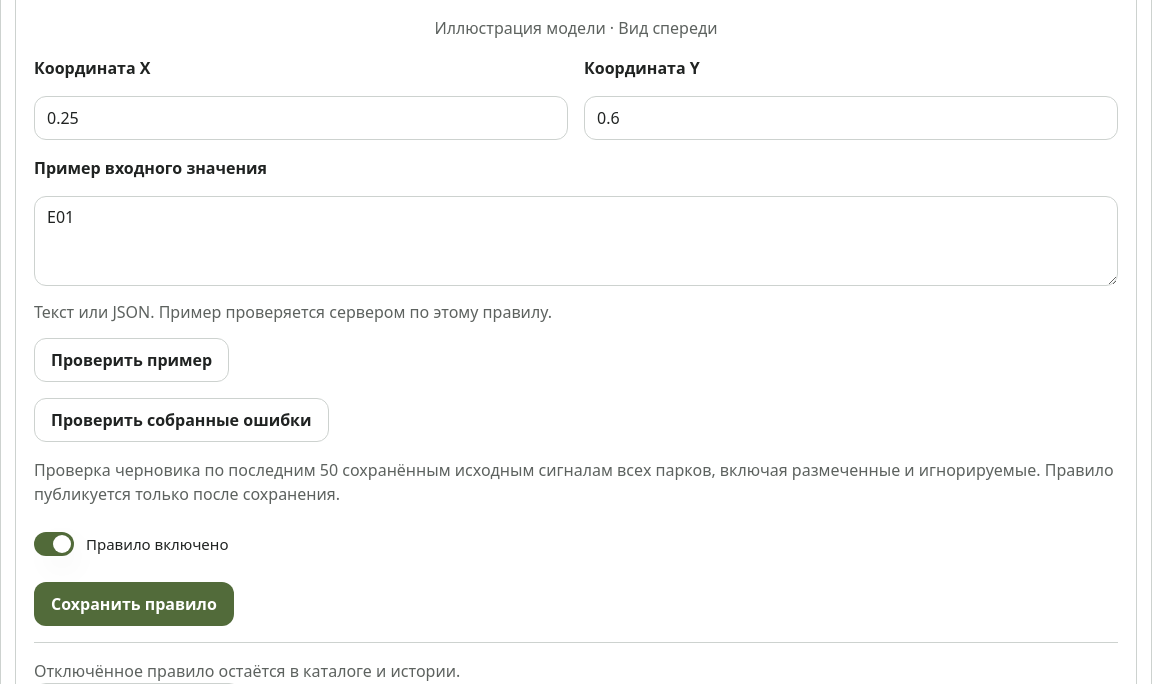
Test: shows the backend preview matched without exposing validation input
(page scrolled)
Click the button "Проверить пример" at x=132, y=360, box x1=34 y1=338 x2=229 y2=382
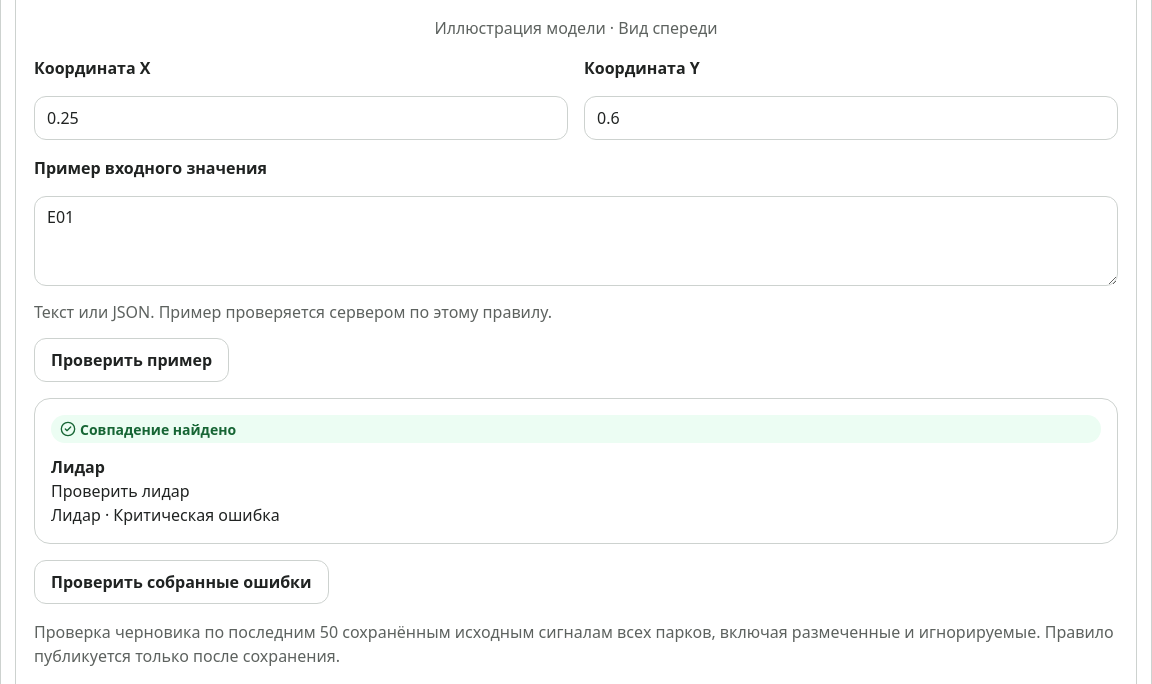
Now the text "Совпадение найдено" is shown, box x1=51 y1=415 x2=1101 y2=443
